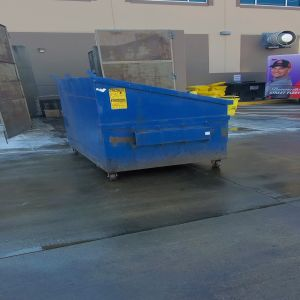Dumpster: (58, 77, 235, 186)
Person: (268, 59, 290, 86)
